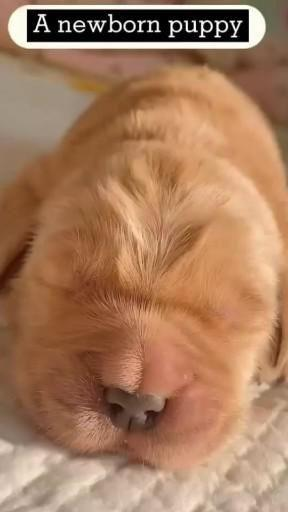puppy-dog: (1, 61, 287, 473)
